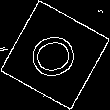O_E: (24, 27, 86, 83)
